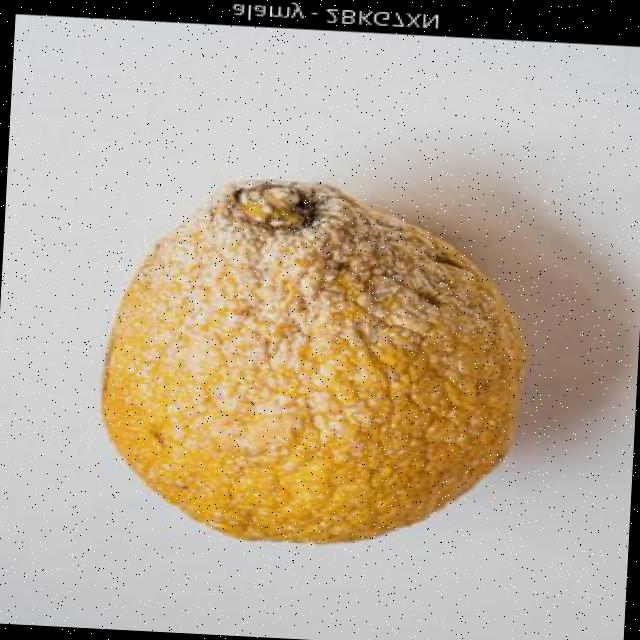Rotten: (89, 172, 534, 558)
